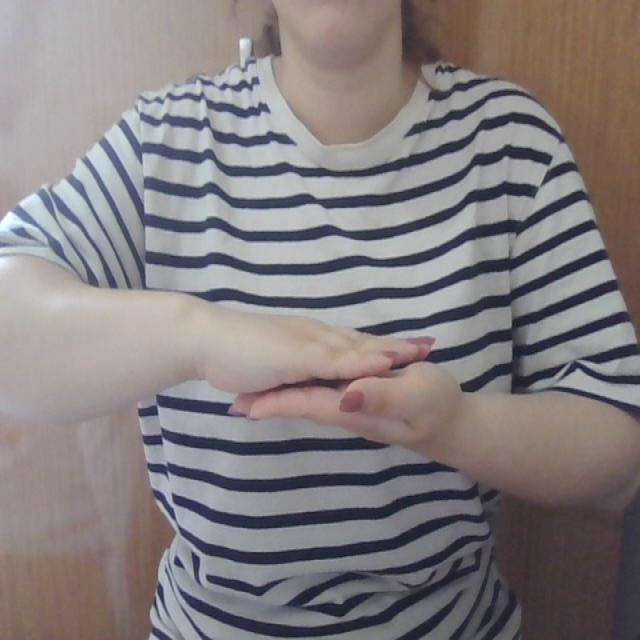Arkadas: (185, 296, 527, 454)
